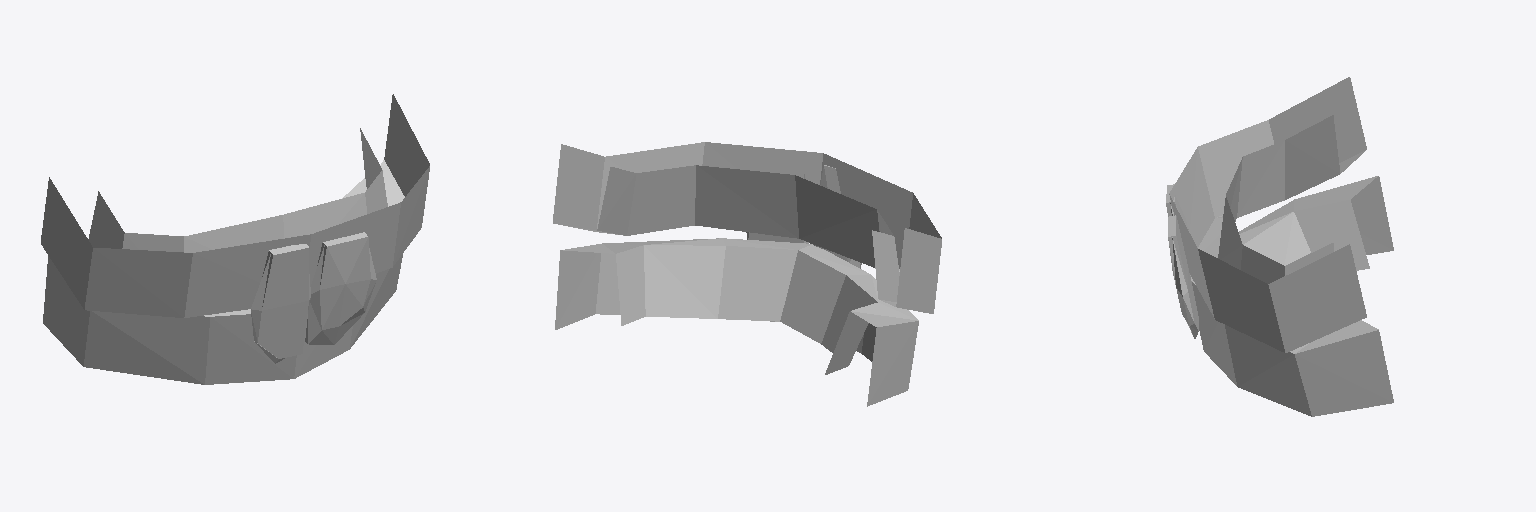
Rendered from pennywise_teeth.obj.
The picture shows the model from 3 angles: view 1: azimuth 30°, elevation 25°; view 2: azimuth 150°, elevation 25°; view 3: azimuth 270°, elevation 25°; orthographic projection.
Visible parts, largest first — view 1: body.004_Mesh; view 2: body.004_Mesh; view 3: body.004_Mesh.
Part boxes in pixels (x1,y1,x2,y2): body.004_Mesh: (41, 94, 429, 384); body.004_Mesh: (553, 142, 941, 406); body.004_Mesh: (1166, 77, 1393, 416).
Size of the model in its own units: 0.1072 by 0.0572 by 0.0618.